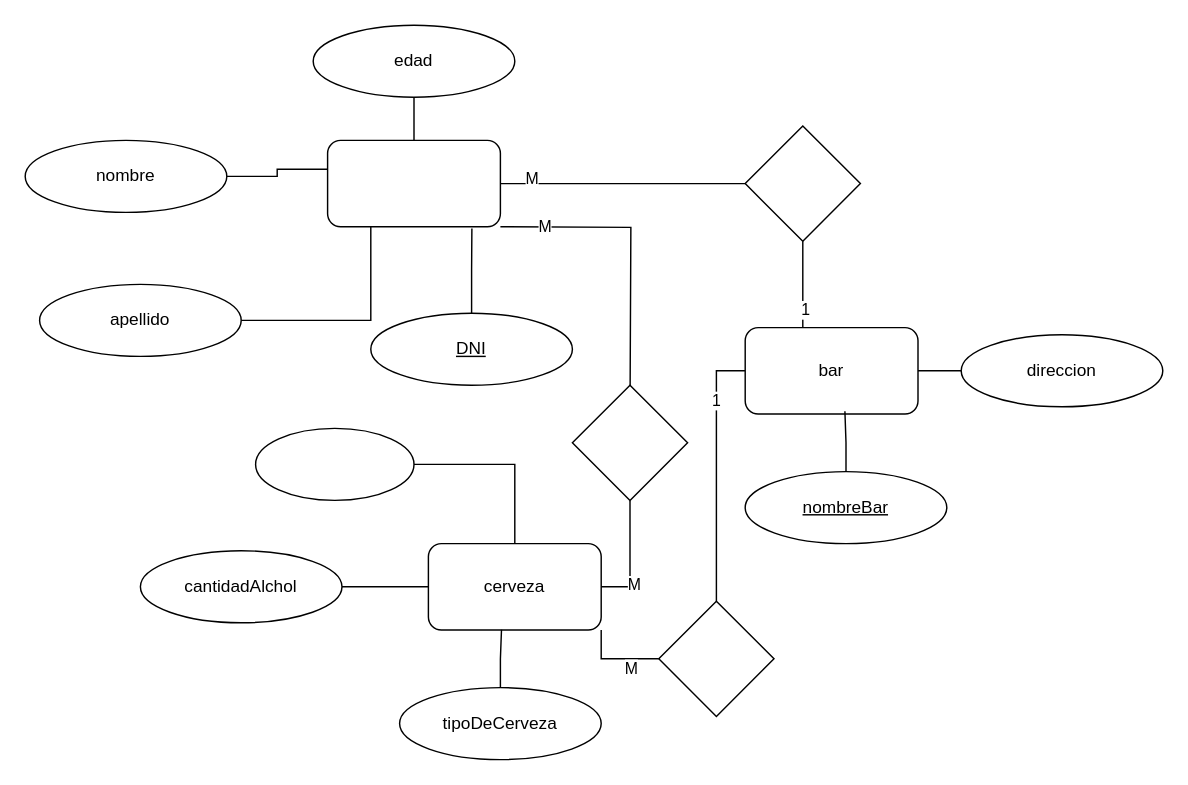
This 1188x785 diagram has some shape labels left out. Each missing label, with the centre of its shape:
asiste: the point at 802,183
bebedor: the point at 413,183
elije: the point at 629,442
nombreCerveza: the point at 334,463
vende: the point at 715,658
